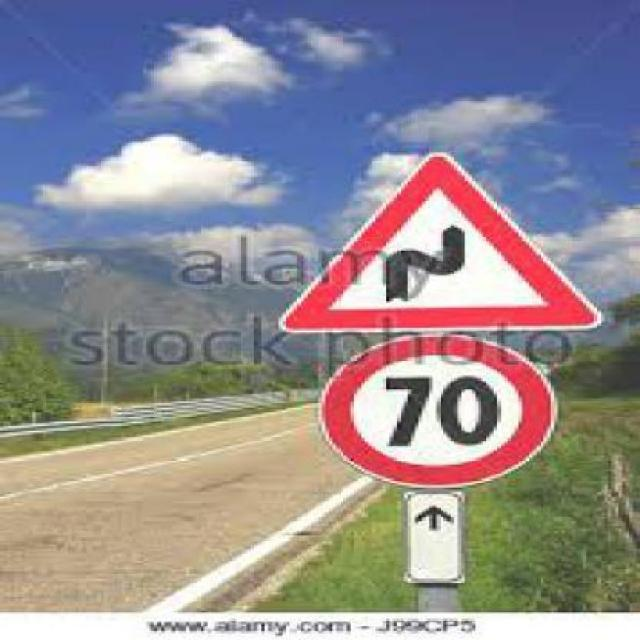speed_limit_70: (322, 335, 562, 490)
